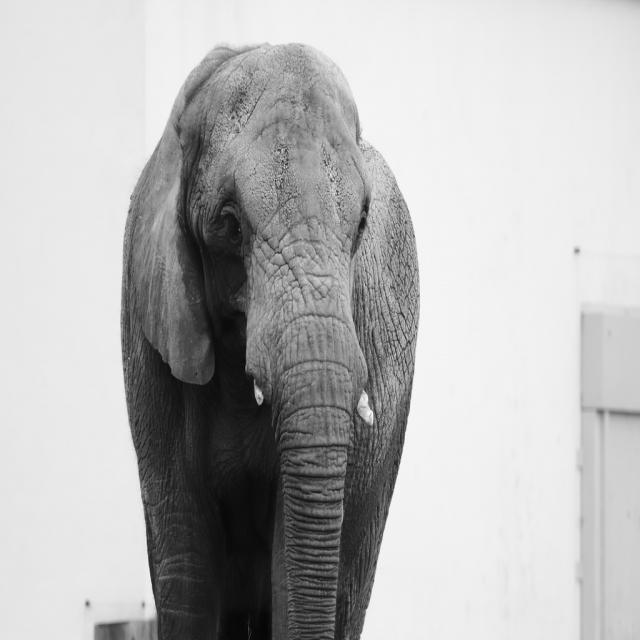Elephant: (109, 30, 432, 640)
